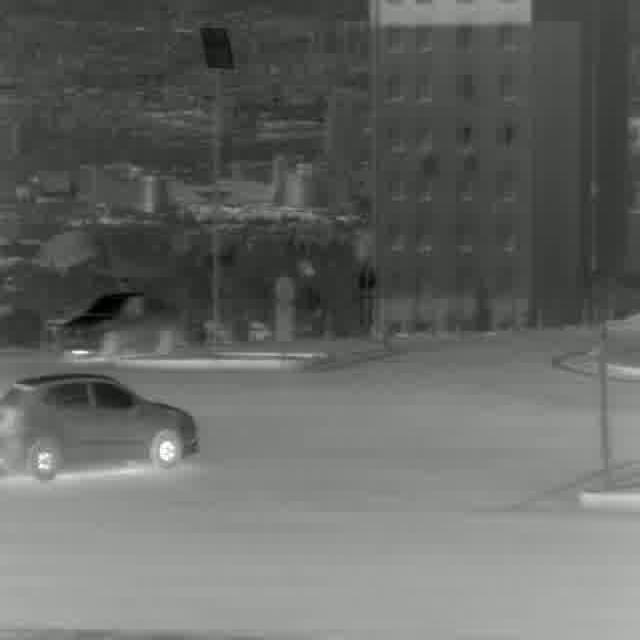Car: (53, 285, 188, 352)
